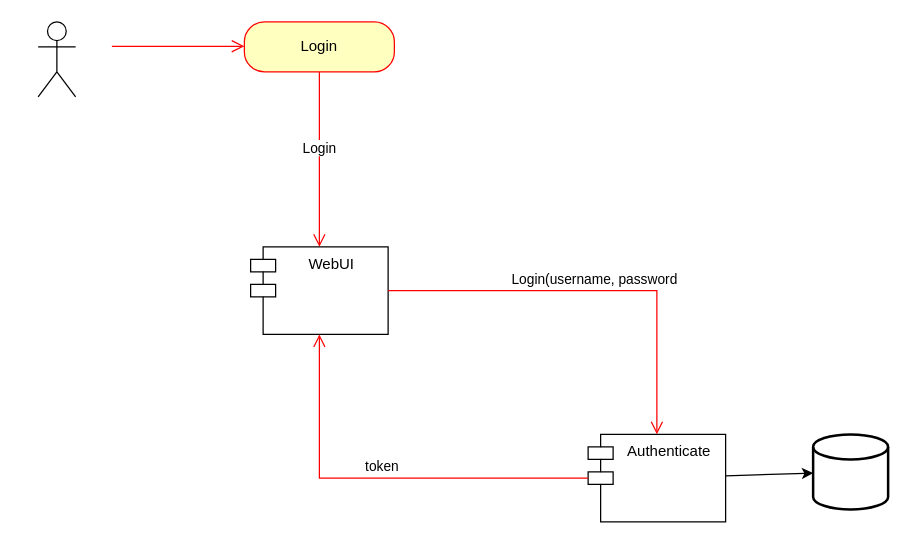
Some shapes in this 911 by 544 pixel diagram are drawn without their labels. The shapes that lost their labels are listed below. From the top down, each one's box as (x1, y1, x2, y2) in pixels, then its label:
(37, 21, 76, 97): Passenger
(811, 432, 889, 510): Accounts
